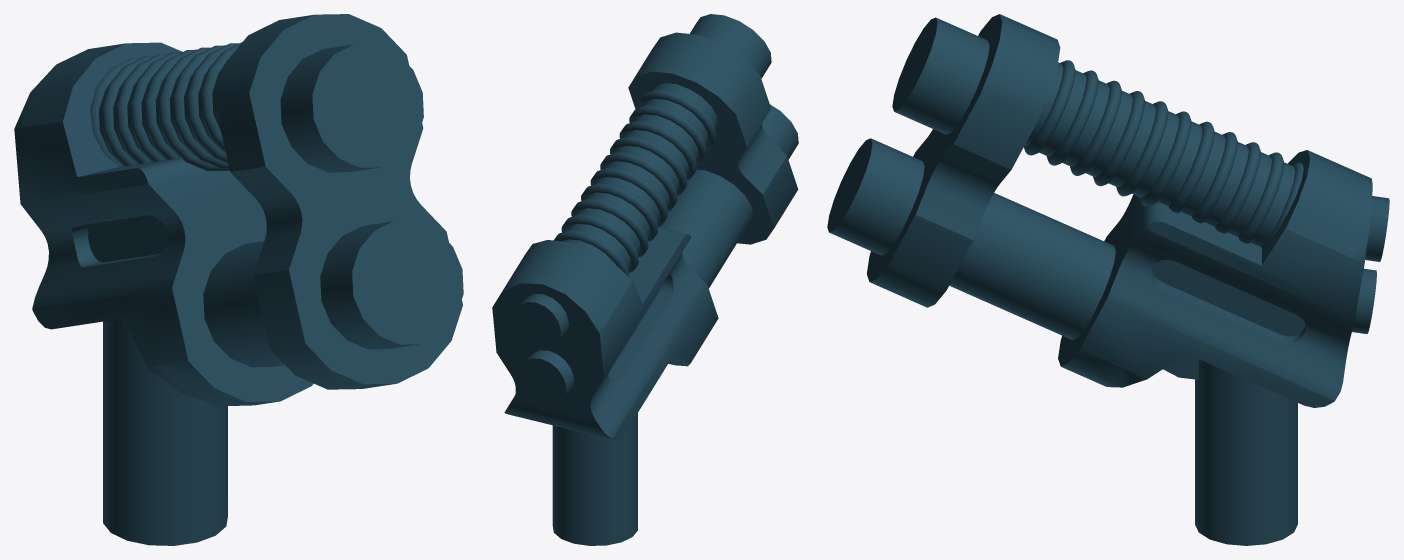
Rendered from Pistol (two barrel).dae.
The picture shows the model from 3 angles, left to right: view 1: azimuth 30°, elevation 25°; view 2: azimuth 150°, elevation 25°; view 3: azimuth 270°, elevation 25°; orthographic projection. The views are drawn at different scales.
Visible parts, largest first — view 1: Object; view 2: Object; view 3: Object.
Boxes of the visible parts, x1,y1,x2,y2 form: Object: (14,14,463,545); Object: (492,14,798,545); Object: (827,14,1389,545).
Bounding box in the file's own units: 4.62 × 17.44 × 17.19.
